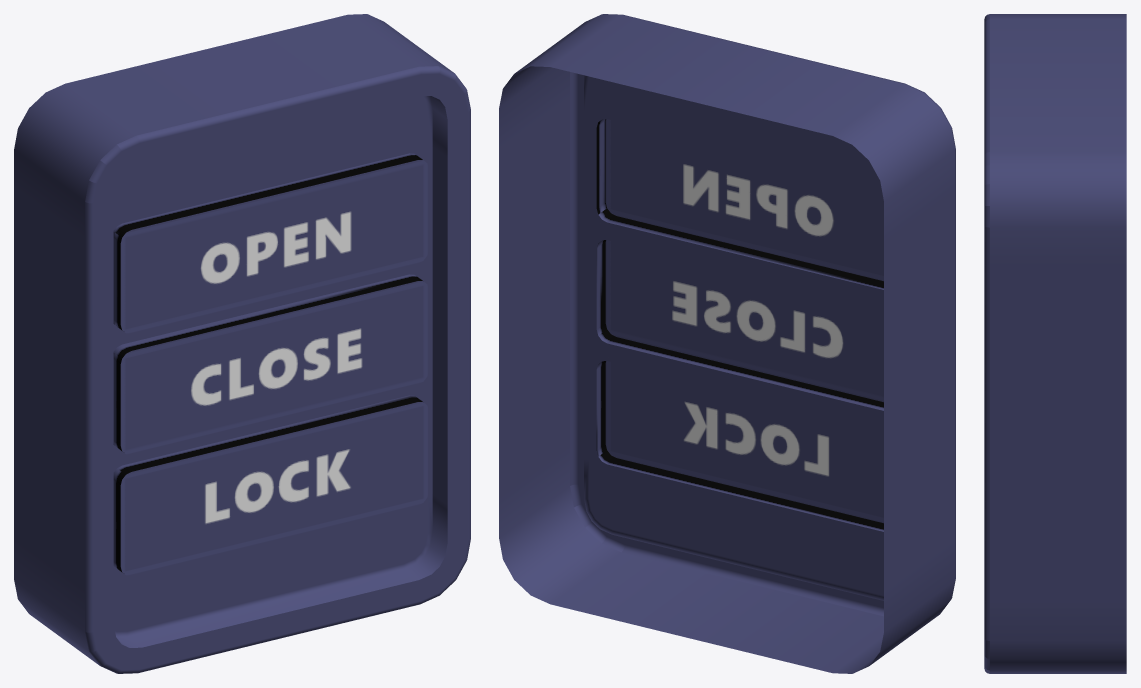
Rendered from SSCDoorControl1.fbx.
The picture shows the model from 3 angles, left to right: view 1: azimuth 30°, elevation 25°; view 2: azimuth 150°, elevation 25°; view 3: azimuth 270°, elevation 25°; orthographic projection. The views are drawn at different scales.
Visible parts, largest first — view 1: SSCDoorControl1; view 2: SSCDoorControl1; view 3: SSCDoorControl1.
Part boxes in pixels (box(x1,y1,x2,y2)): SSCDoorControl1: box(14, 14, 470, 673); SSCDoorControl1: box(499, 14, 955, 673); SSCDoorControl1: box(984, 14, 1126, 673).
Size of the model in its own units: 15 by 20 by 5.
